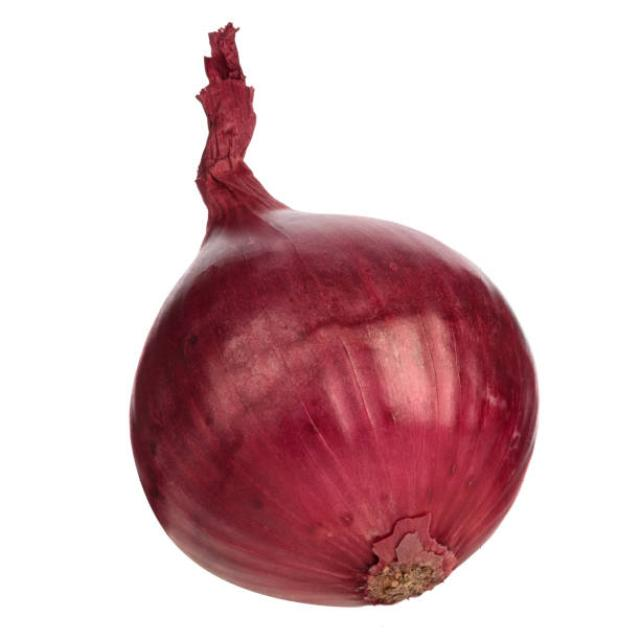onion: (114, 202, 549, 618)
